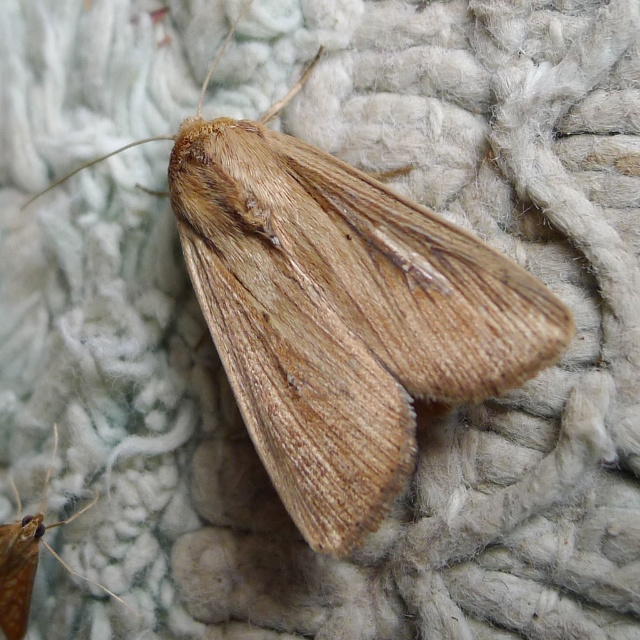Moths and butterflies: (23, 0, 580, 560), (0, 419, 128, 640)
